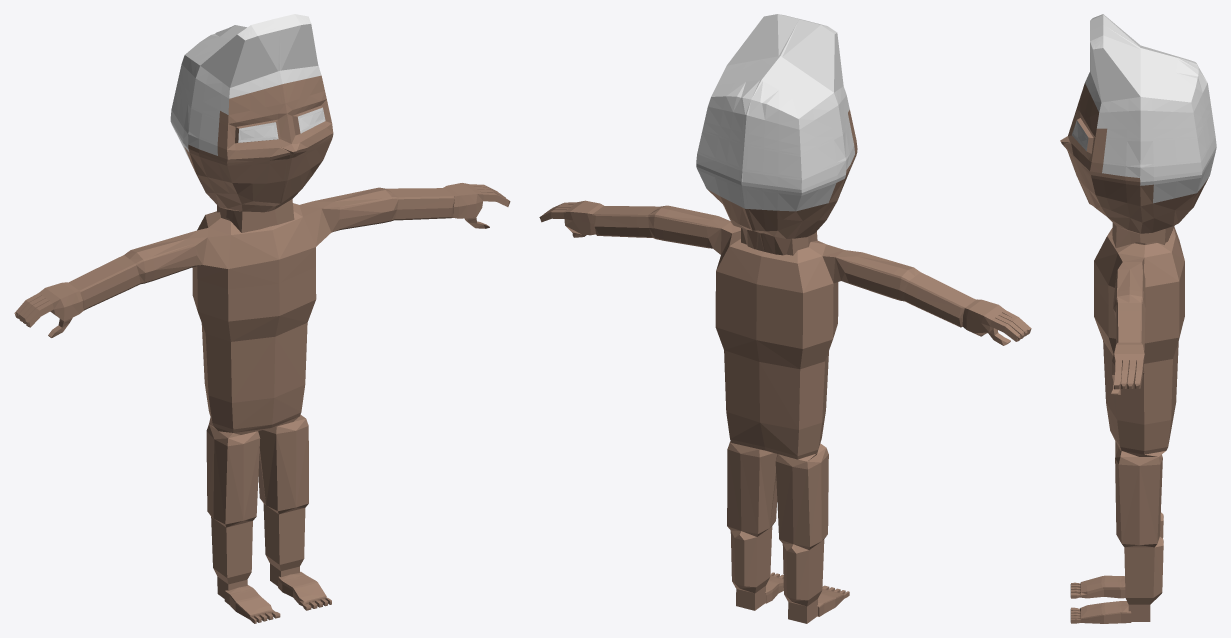
File: human-1-1.dae
3 renders of one model, left to right at view 1: azimuth 30°, elevation 25°; view 2: azimuth 150°, elevation 25°; view 3: azimuth 270°, elevation 25°, orthographic.
Visible parts, largest first — view 1: Cube.001; view 2: Cube.001; view 3: Cube.001.
Boxes of the visible parts, bbox=[...] form: Cube.001: bbox=[14, 14, 510, 623]; Cube.001: bbox=[539, 14, 1031, 623]; Cube.001: bbox=[1060, 14, 1216, 623].
Bounding box in the file's own units: 10.93 × 3.1 × 12.64.
